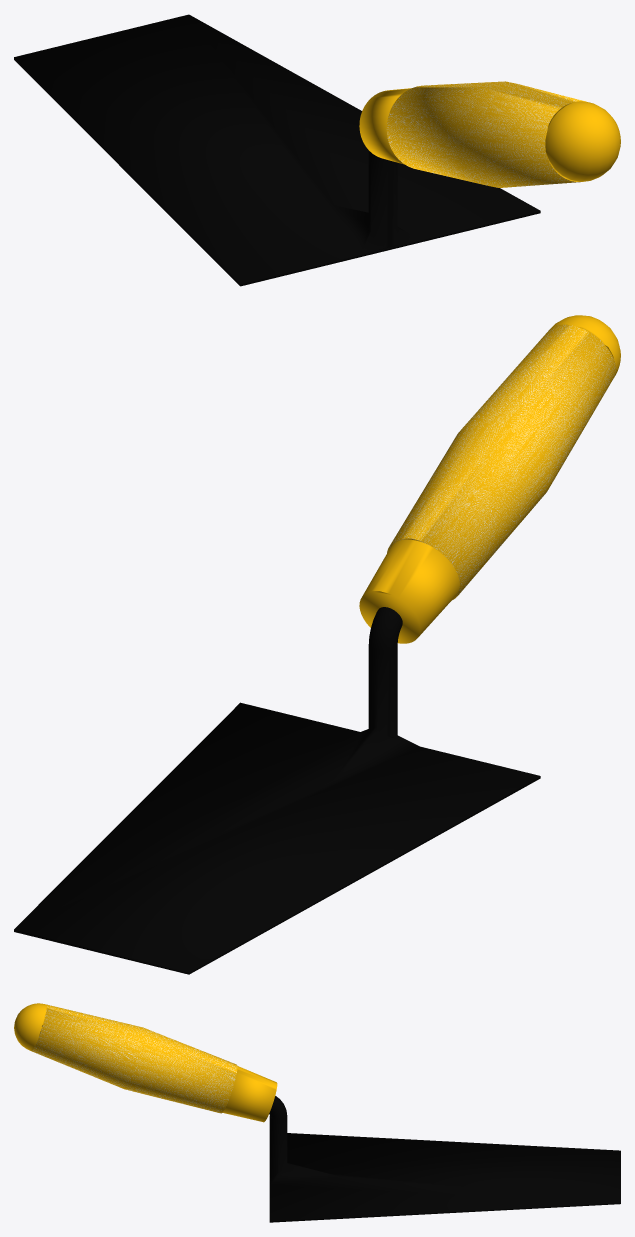
File: trowel_03_origin_gt_1.dae
3 renders of one model, top to bottom at view 1: azimuth 30°, elevation 25°; view 2: azimuth 150°, elevation 25°; view 3: azimuth 270°, elevation 25°, orthographic. The views are drawn at different scales.
Visible parts, largest first — view 1: Groupe_4, Groupe_3, Groupe_1, Groupe_2; view 2: Groupe_4, Groupe_3, Groupe_2, Groupe_1; view 3: Groupe_4, Groupe_3, Groupe_2, Groupe_1.
Boxes of the visible parts, x1,y1,x2,y2 form: Groupe_4: (14,14,540,286); Groupe_3: (386,81,586,187); Groupe_1: (545,101,620,181); Groupe_2: (359,88,410,164); Groupe_4: (14,607,540,974); Groupe_3: (387,324,616,600); Groupe_2: (359,539,459,643); Groupe_1: (548,315,620,375); Groupe_4: (269,1096,620,1222); Groupe_3: (31,1004,237,1113); Groupe_2: (222,1066,277,1122); Groupe_1: (14,1003,46,1050).
Size of the model in its own units: 4.72 by 13.61 by 4.27.
